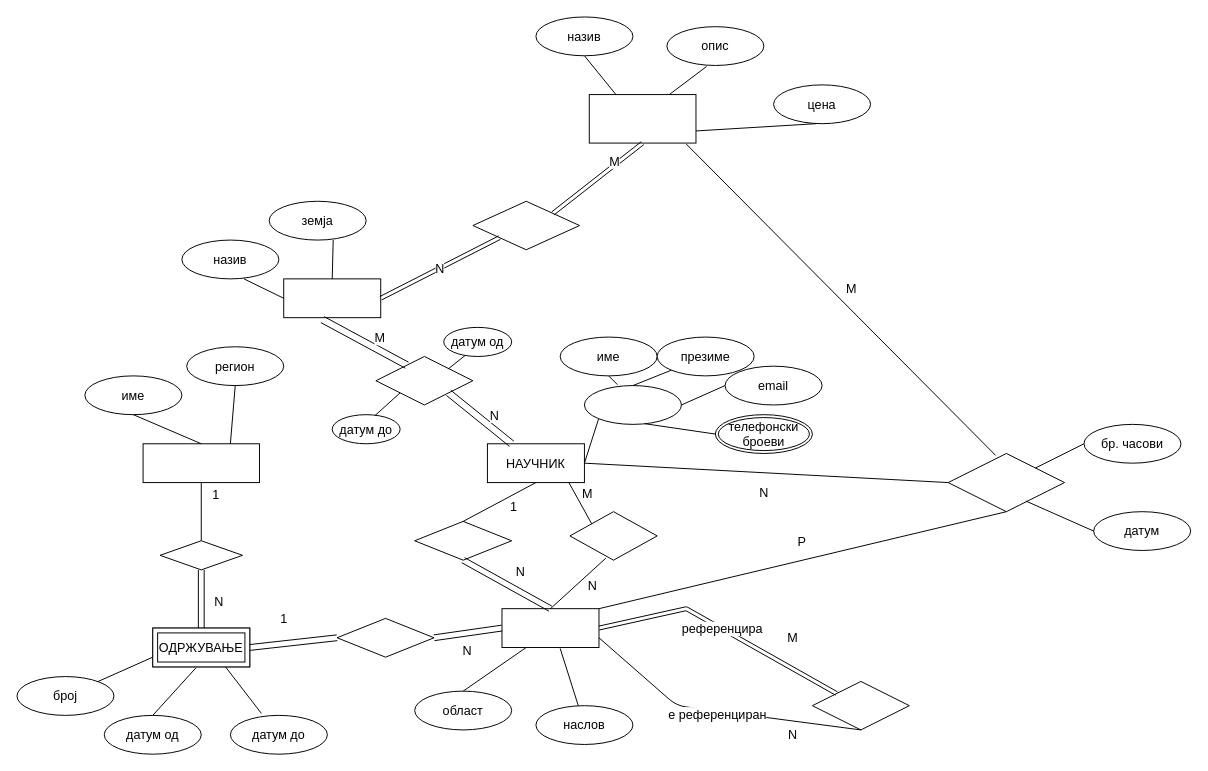
Some shapes in this 1208 by 771 pixel diagram are drawn without their labels. The box of each missing label's shape, as (x1, y1, x2, y2) in pixels:
ИНСТИТУЦИЈА: (283, 278, 381, 318)
ко-автор: (569, 511, 657, 560)
контакт: (583, 385, 681, 424)
КОНФЕРЕНЦИЈА: (142, 443, 259, 483)
ЛАБОРАТОРИЈА: (588, 94, 696, 143)
прв автор: (414, 520, 512, 560)
работи: (375, 356, 473, 405)
тестирање: (947, 453, 1065, 512)
ТРУД: (501, 608, 599, 647)
